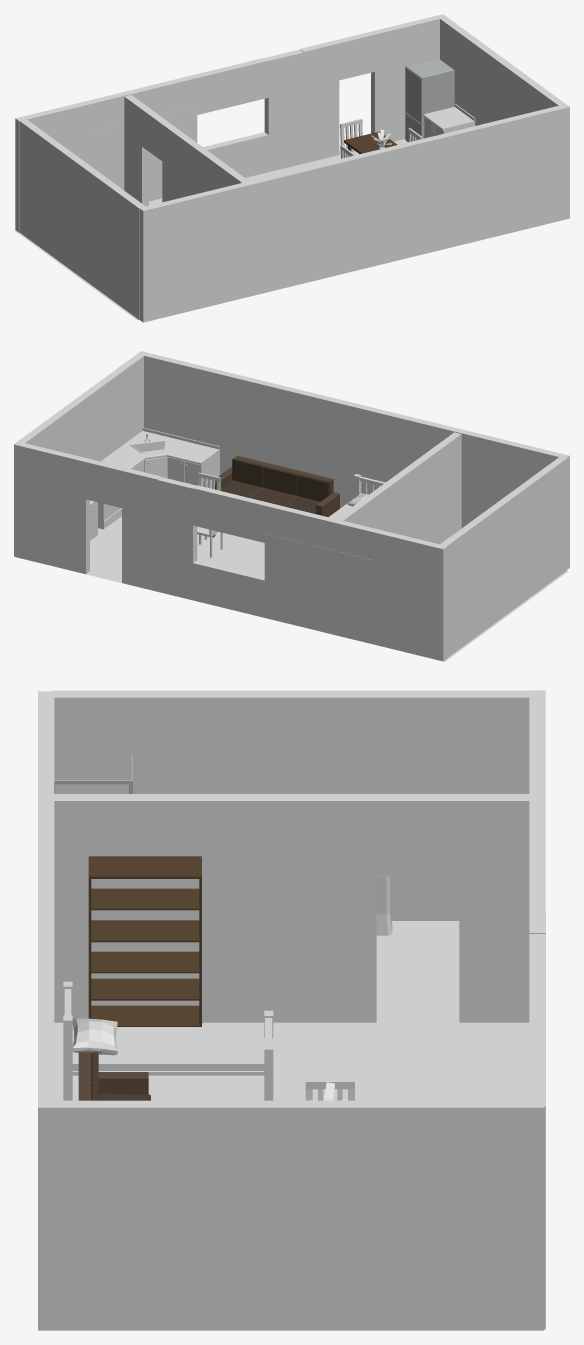
Rendered from monoambiente.fbx.
3 views of the same model, one above another, from view 1: azimuth 30°, elevation 25°; view 2: azimuth 150°, elevation 25°; view 3: azimuth 270°, elevation 25° (orthographic). The views are drawn at different scales.
Parts seen in each view (by area): view 1: Pared4, Pared5, Pared1, Pared3, Pared2, heladera, KitchenCabinet1.001_Cube.015, Piso, mesa, silla3; view 2: Pared5, Pared4, Pared1, Pared3, Pared2, sofa_Cube.043, KitchenCabinetRounded_Cube.017, Piso, cama, kitchen_stove_with_oven.001_Cube.003; view 3: Pared2, Pared3, Pared1, Piso, wardrobe2_Cube.006, cama, Pared4, Pared5, sofa_Cube.043, shower_Cube.036, sink_Cube.030.
Part boxes in pixels (<box>): Pared4: <box>140,104,569,322</box>; Pared5: <box>15,14,441,232</box>; Pared1: <box>17,117,145,320</box>; Pared3: <box>124,95,248,206</box>; Pared2: <box>436,14,565,125</box>; heladera: <box>405,58,454,141</box>; KitchenCabinet1.001_Cube.015: <box>423,104,475,138</box>; Piso: <box>14,139,407,320</box>; mesa: <box>344,131,397,153</box>; silla3: <box>340,119,362,155</box>; Pared5: <box>14,443,447,661</box>; Pared4: <box>137,351,569,569</box>; Pared1: <box>436,456,567,657</box>; Pared3: <box>336,432,461,544</box>; Pared2: <box>14,354,143,556</box>; sofa_Cube.043: <box>215,455,339,517</box>; KitchenCabinetRounded_Cube.017: <box>101,427,219,488</box>; Piso: <box>86,516,567,661</box>; cama: <box>329,474,385,518</box>; kitchen_stove_with_oven.001_Cube.003: <box>98,502,121,529</box>; Pared2: <box>54,1100,543,1330</box>; Pared3: <box>54,794,529,1022</box>; Pared1: <box>51,690,543,920</box>; Piso: <box>54,912,545,1327</box>; wardrobe2_Cube.006: <box>88,856,202,1026</box>; cama: <box>63,981,273,1100</box>; Pared4: <box>38,691,54,1330</box>; Pared5: <box>529,690,545,1329</box>; sofa_Cube.043: <box>78,1052,150,1100</box>; shower_Cube.036: <box>54,754,132,793</box>; sink_Cube.030: <box>376,875,398,935</box>.
Bounding box in the file's own units: 1207 × 303 × 619.
